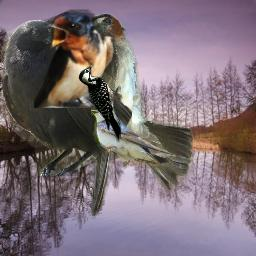Crow: (1, 20, 132, 176)
Swallow: (77, 13, 193, 220), (34, 9, 116, 108), (91, 107, 176, 170)
Woodpecker: (78, 63, 121, 143)
